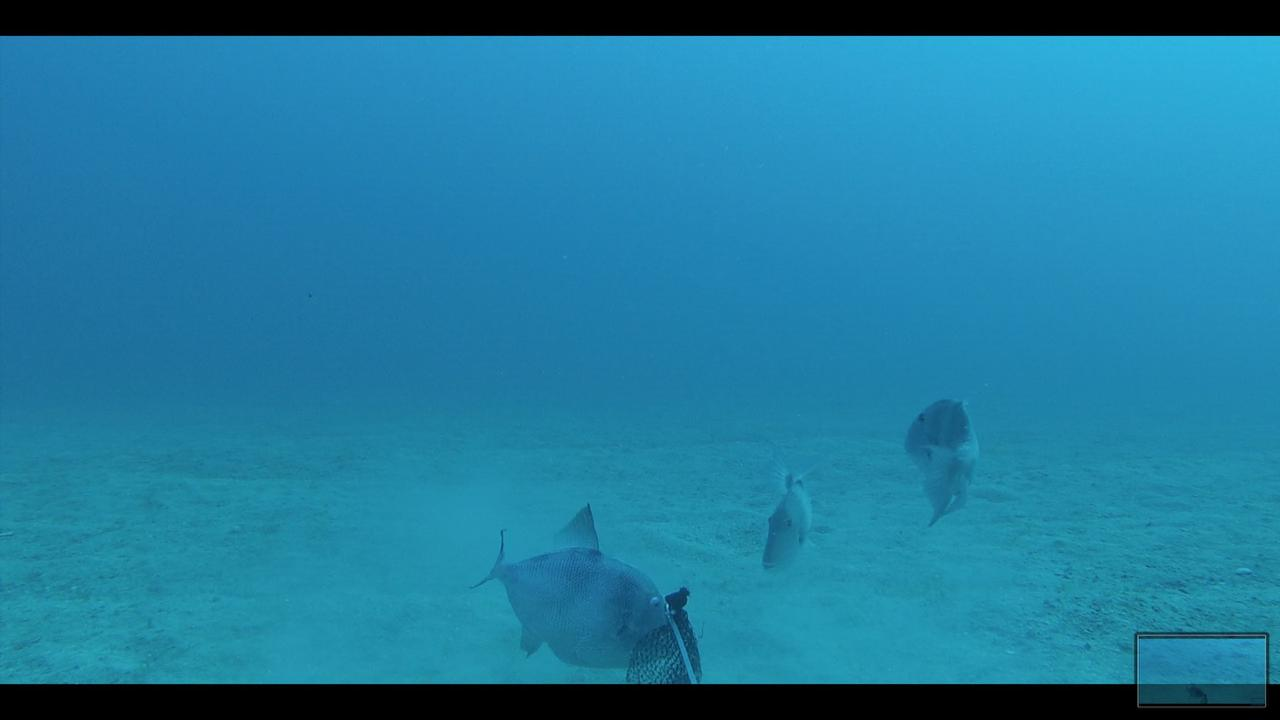balistes: (459, 501, 682, 668), (898, 391, 983, 531), (750, 444, 824, 570)
